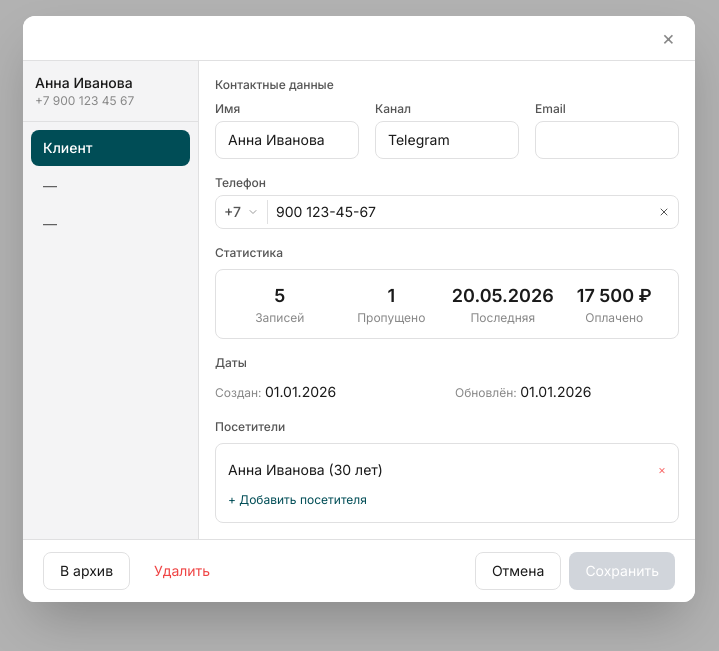
ClientCardModal ↔ ClientInfoTab integration (real components) › save button enables after channel change
The width and height of the screenshot is (719, 651).
Expected: the button "Сохранить" is disabled, [569, 552, 675, 590]
Select "WhatsApp" in the dropdown labelled "Канал" at (447, 140), box [375, 121, 519, 159]
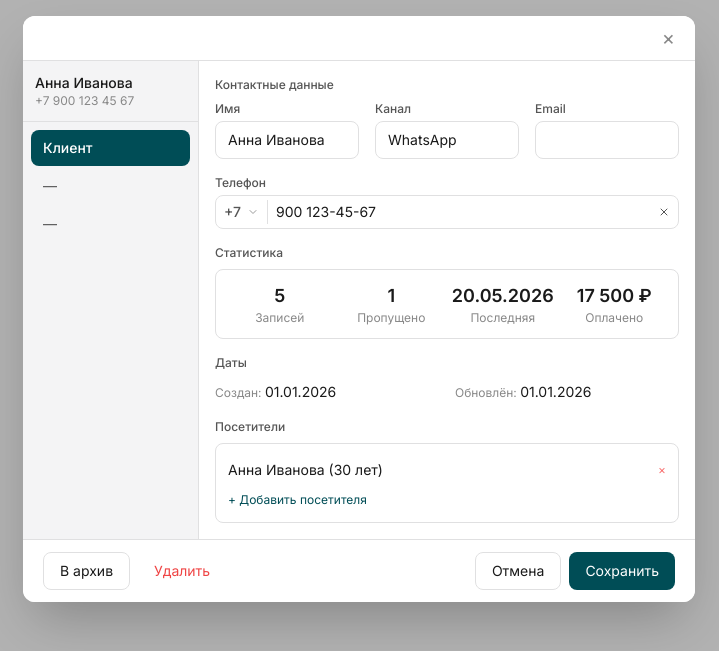
Expected: the button "Сохранить" is enabled, [569, 552, 675, 590]
